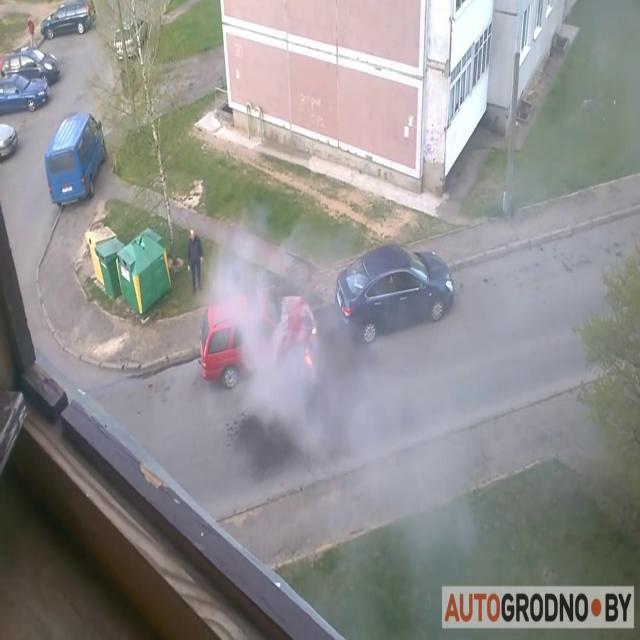Smoke: (208, 211, 356, 459)
